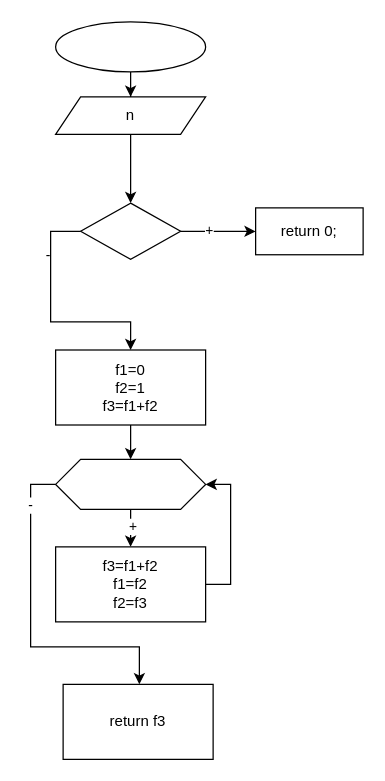
The diagram is 385 pixels wide and 781 high, and some of its shapes have lost their labels. The shapes that lost their labels are listed below. From the top down, each one's box as (x1, y1, x2, y2) in pixels, then its label:
(54, 21, 206, 72): iterative_method
(79, 202, 181, 259): n == 0
(54, 458, 206, 509): i=2,n
